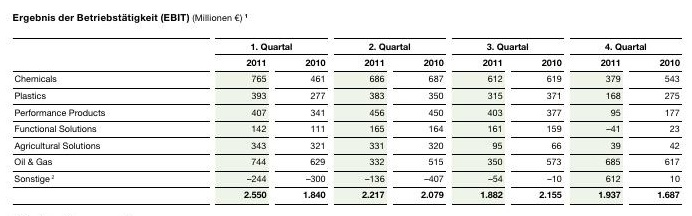table: (0, 0, 692, 216)
